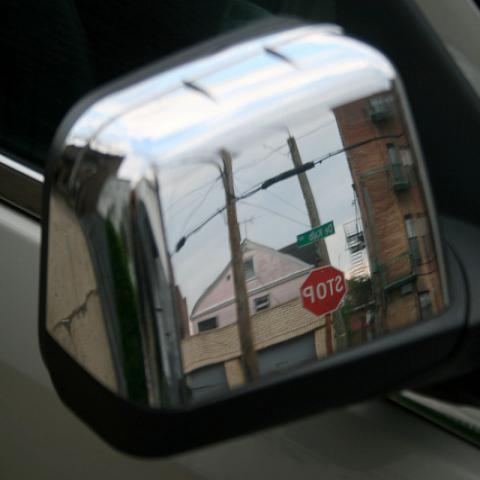car: (48, 142, 188, 406)
